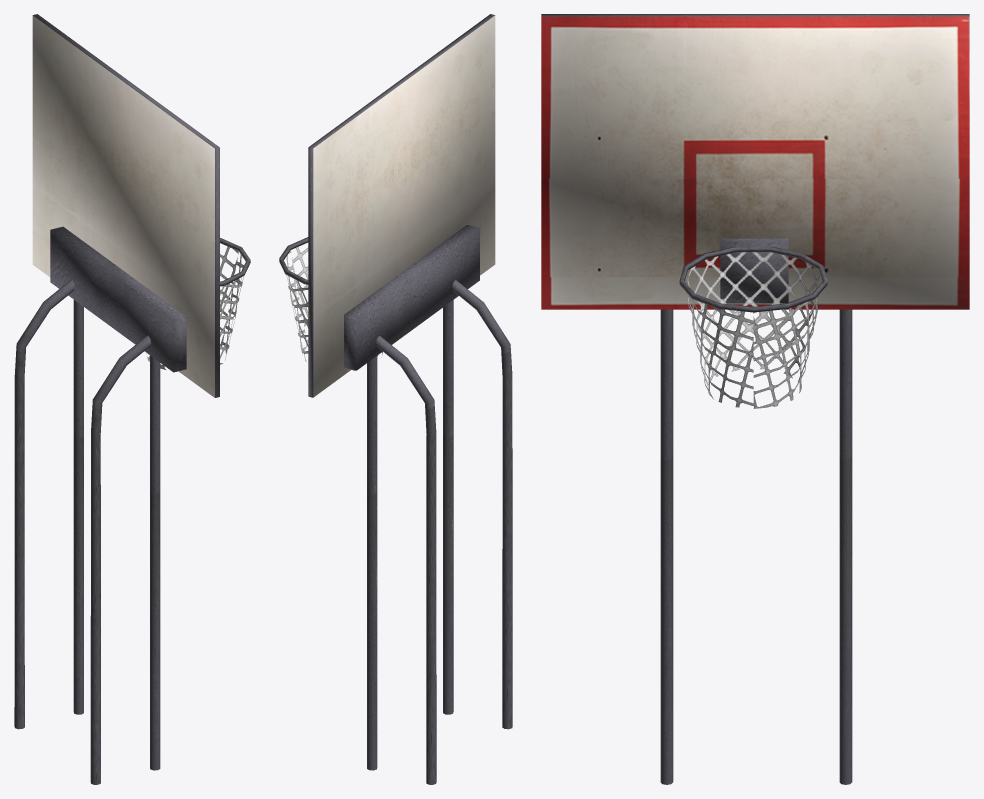
The model's file is hoop.fbx.
3 views of the same model, side by side, from view 1: azimuth 30°, elevation 25°; view 2: azimuth 150°, elevation 25°; view 3: azimuth 270°, elevation 25° (orthographic). The views are drawn at different scales.
Parts seen in each view (by area): view 1: LeftHoop, LeftHoop_001; view 2: LeftHoop, LeftHoop_001; view 3: LeftHoop, LeftHoop_001.
Boxes of the visible parts, x1,y1,x2,y2 form: LeftHoop: [14, 14, 250, 784]; LeftHoop_001: [147, 246, 243, 369]; LeftHoop: [279, 14, 512, 784]; LeftHoop_001: [286, 247, 382, 370]; LeftHoop: [541, 14, 969, 784]; LeftHoop_001: [685, 252, 821, 408].
Size of the model in its own units: 2.85 by 9.53 by 4.79.
